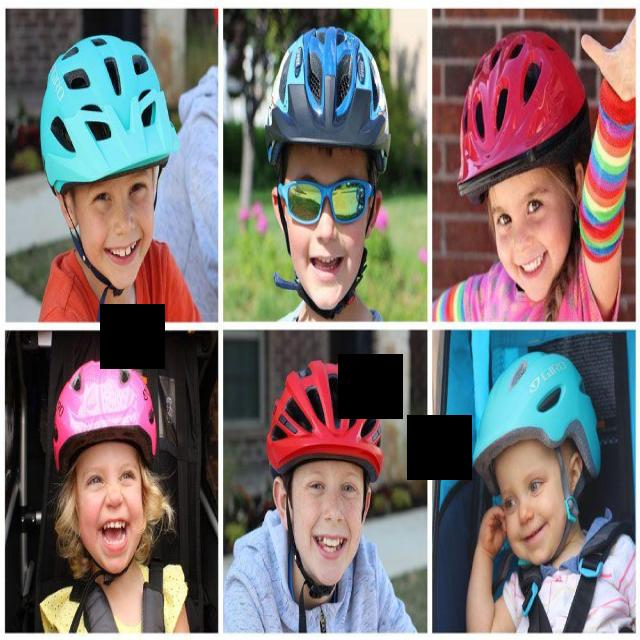Helmet: (456, 25, 592, 299), (41, 34, 180, 290), (267, 24, 390, 312), (473, 352, 600, 566), (267, 360, 385, 590), (52, 356, 160, 576)
